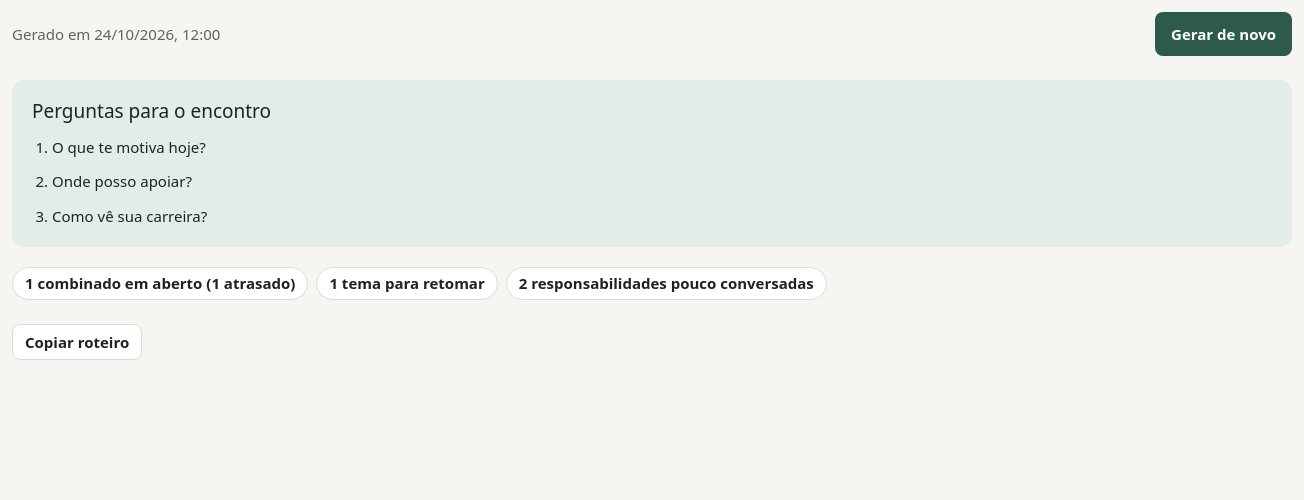
Scenario: PreparationPanel › deve mostrar as perguntas em destaque e os detalhes só ao clicar nas etiquetas
The width and height of the screenshot is (1304, 500).
Expected: the number of list items is 3, top-left (52, 137), bottom-right (206, 157); top-left (52, 171), bottom-right (192, 191); top-left (52, 206), bottom-right (207, 226)
Expected: the text "Enviar a proposta" is not shown
Click the button "1 combinado em aberto (1 atrasado)" at [160, 284], box top-left (12, 267), bottom-right (308, 300)
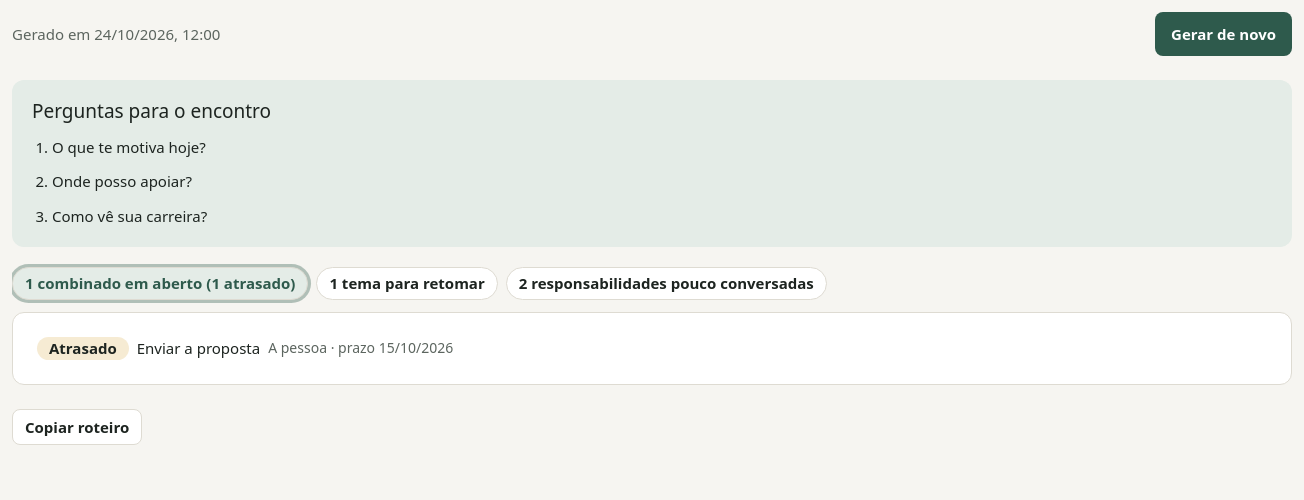
Expected: the button "1 combinado em aberto (1 atrasado)" is expanded, top-left (12, 267), bottom-right (308, 300)
Expected: the text "Enviar a proposta" is shown, top-left (137, 337), bottom-right (260, 360)
Expected: the text "Atrasado" is shown, top-left (37, 337), bottom-right (129, 360)
Click the button "1 tema para retomar" at [407, 284], box top-left (316, 267), bottom-right (498, 300)
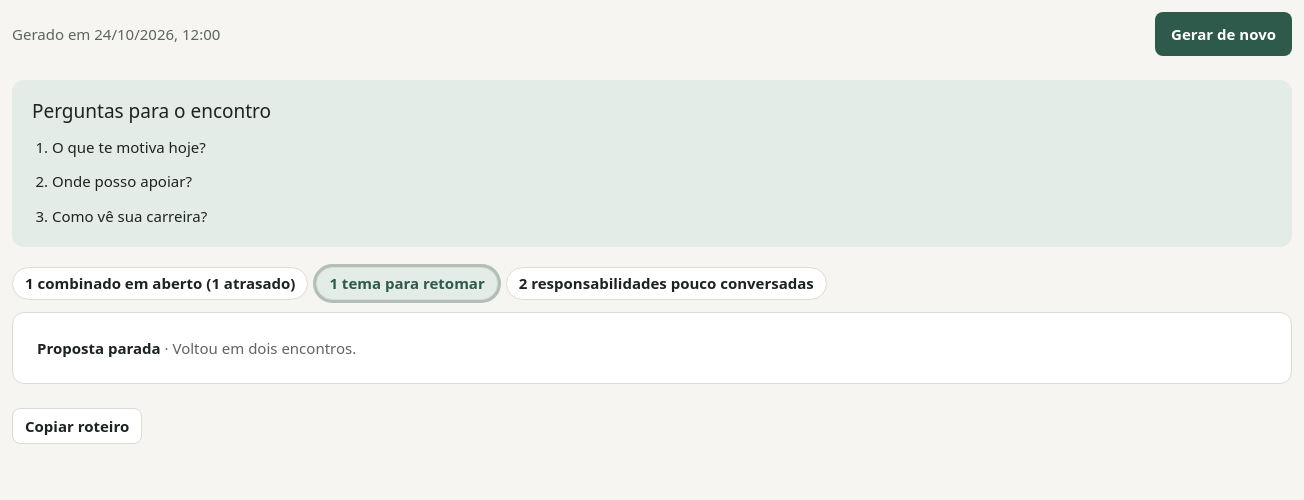
Expected: the text "Proposta parada" is shown, top-left (37, 338), bottom-right (161, 358)
Expected: the text "Enviar a proposta" is gone
Click the button "2 responsabilidades pouco conversadas" at [666, 284], box top-left (506, 267), bottom-right (827, 300)
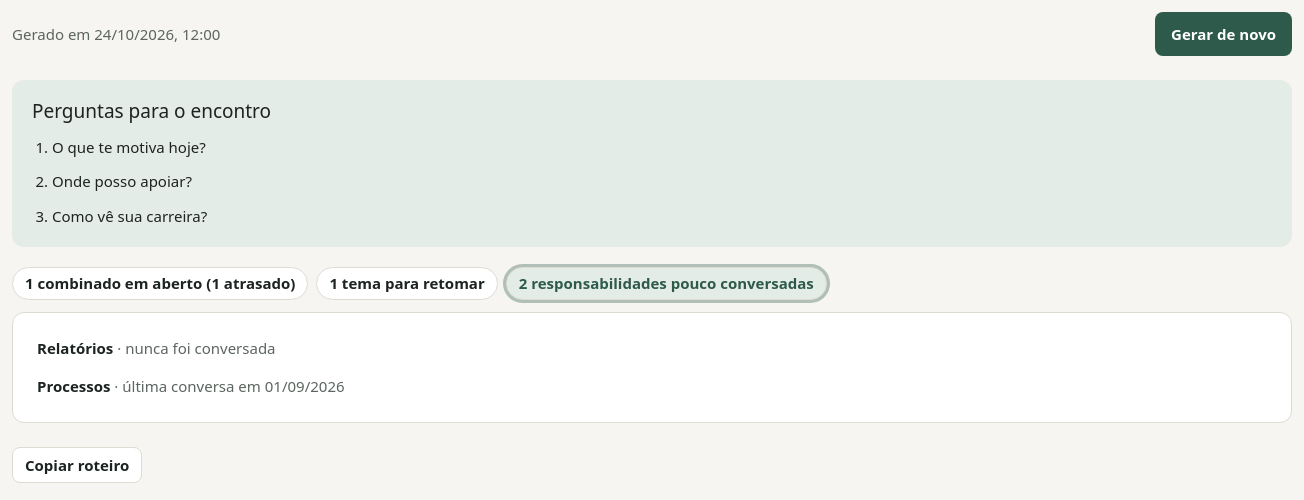
Expected: the text "· nunca foi conversada" is shown, top-left (113, 338), bottom-right (276, 358)
Expected: the text "· última conversa em 01/09/2026" is shown, top-left (110, 376), bottom-right (345, 396)
